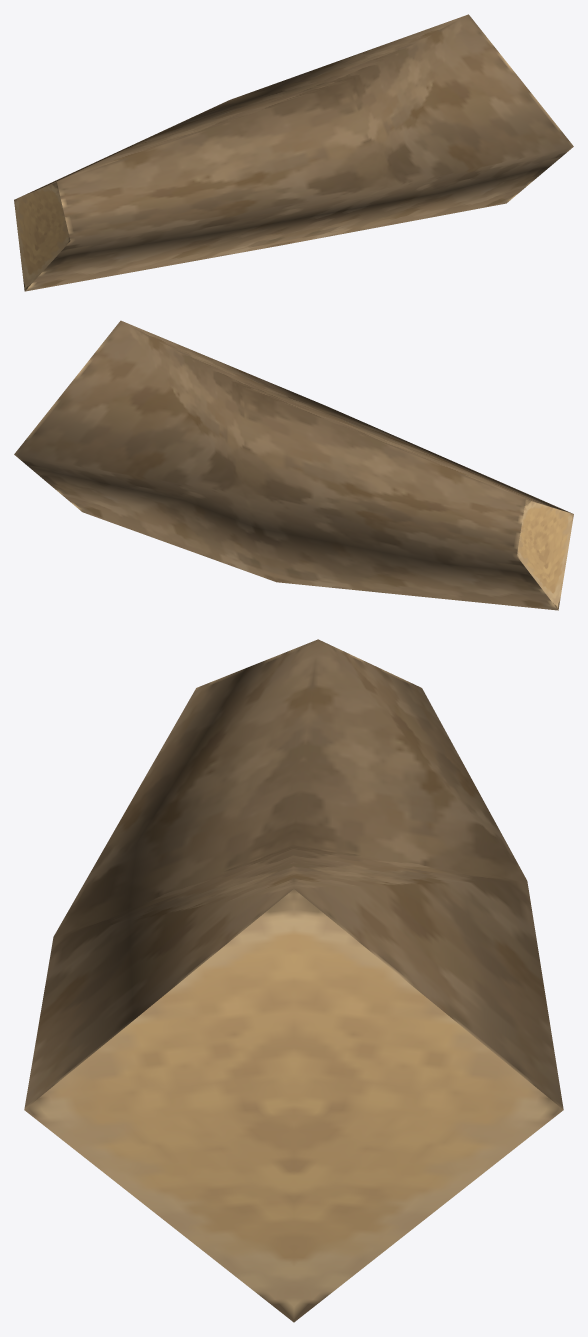
The model's file is das.fbx.
The picture shows the model from 3 angles, top to bottom: view 1: azimuth 30°, elevation 25°; view 2: azimuth 150°, elevation 25°; view 3: azimuth 270°, elevation 25°; orthographic projection. The views are drawn at different scales.
Visible parts, largest first — view 1: Object001; view 2: Object001; view 3: Object001.
Part boxes in pixels (x1=…): Object001: x1=14, y1=14, x2=573, y2=291; Object001: x1=14, y1=320, x2=573, y2=610; Object001: x1=24, y1=639, x2=563, y2=1322.
Bounding box in the file's own units: 7.24 × 2.95 × 3.56.
